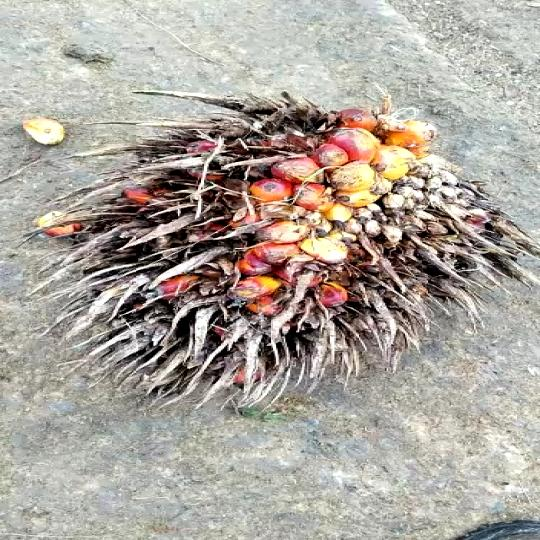terlalu masak: (38, 75, 540, 402)
